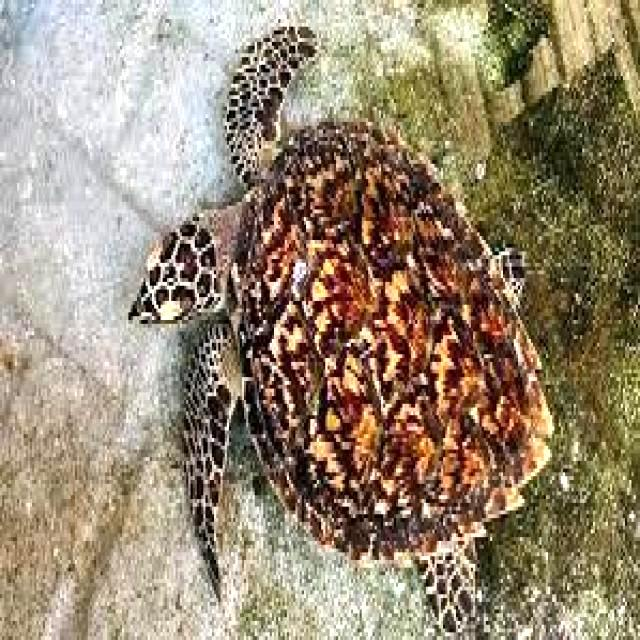Sea turtle: (142, 25, 563, 600)
